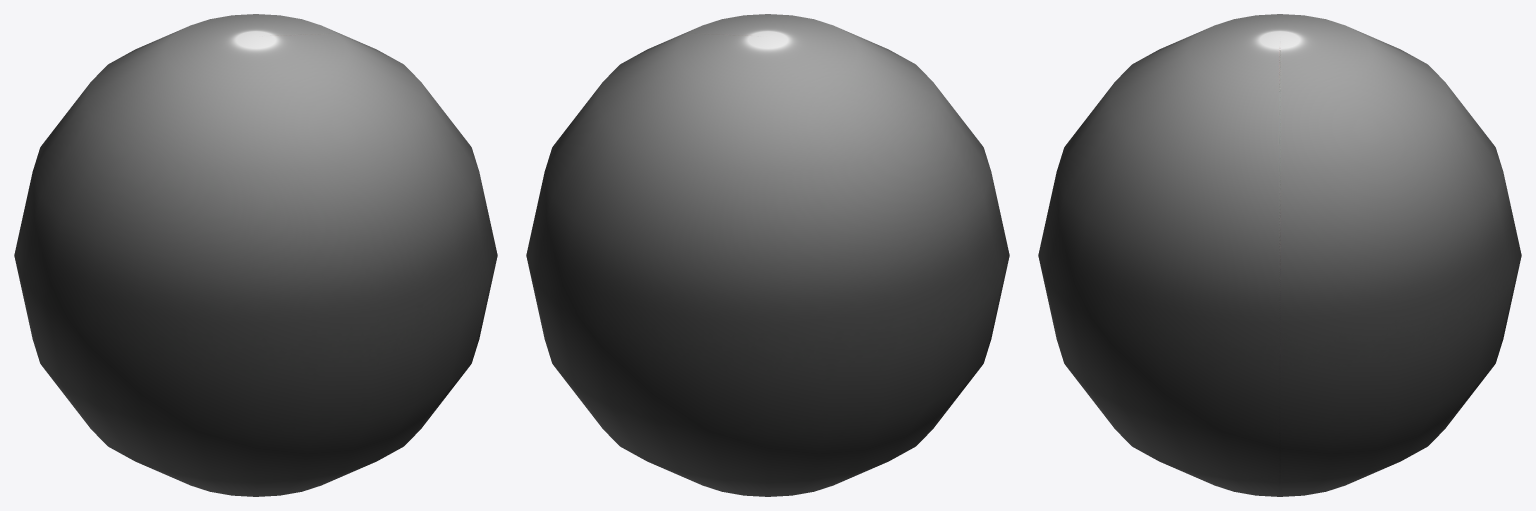
The model's file is Bubble.fbx.
3 renders of one model, left to right at view 1: azimuth 30°, elevation 25°; view 2: azimuth 150°, elevation 25°; view 3: azimuth 270°, elevation 25°, orthographic.
Visible parts, largest first — view 1: Sphere; view 2: Sphere; view 3: Sphere.
Part boxes in pixels (left/top/right/bottom): Sphere: left=14, top=14, right=497, bottom=496; Sphere: left=526, top=14, right=1009, bottom=496; Sphere: left=1038, top=14, right=1521, bottom=496.
Size of the model in its own units: 200 by 200 by 200.
Materials: 1 (1 with a texture image).
